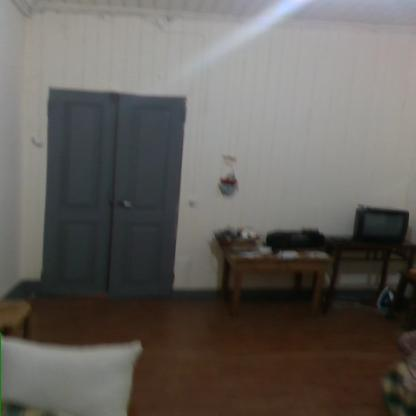closed: (38, 74, 198, 304)
